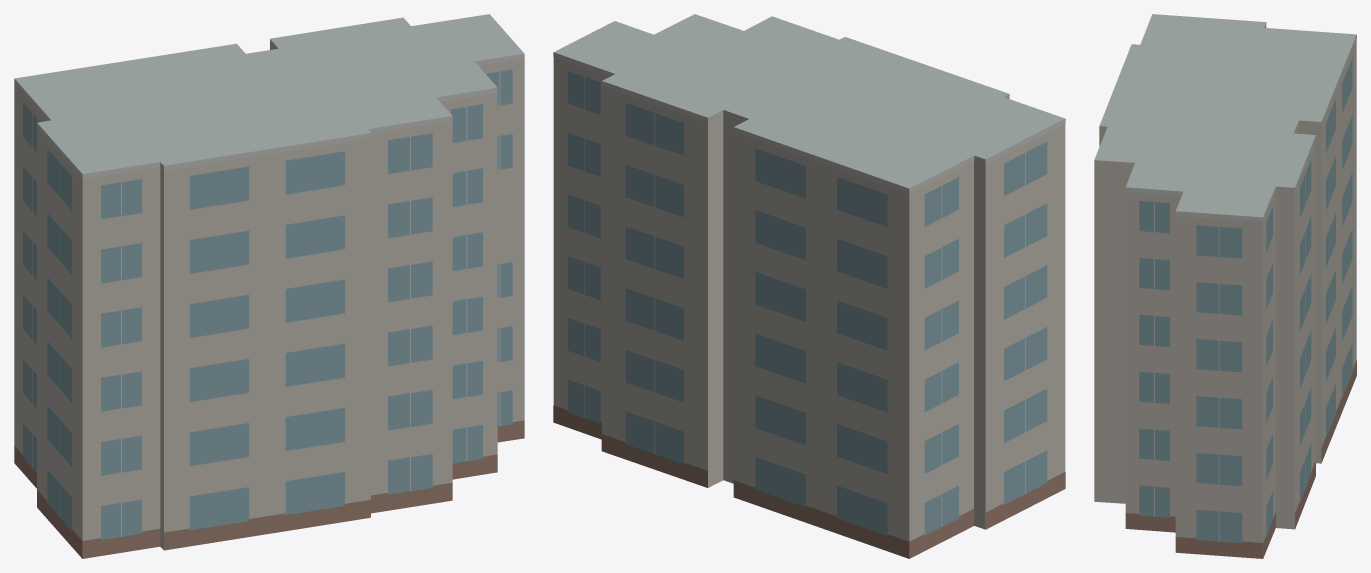
File: survey-upis-32751870.glb
3 views of the same model, side by side, from view 1: azimuth 30°, elevation 25°; view 2: azimuth 150°, elevation 25°; view 3: azimuth 270°, elevation 25° (orthographic). The views are drawn at different scales.
Parts seen in each view (by area): view 1: survey-upis-32751870.tmp; view 2: survey-upis-32751870.tmp; view 3: survey-upis-32751870.tmp.
Part boxes in pixels (x1,y1,x2,y2): survey-upis-32751870.tmp: (14, 14, 524, 558); survey-upis-32751870.tmp: (553, 14, 1065, 558); survey-upis-32751870.tmp: (1094, 14, 1356, 558).
Size of the model in its own units: 23.38 by 18.3 by 12.76.
